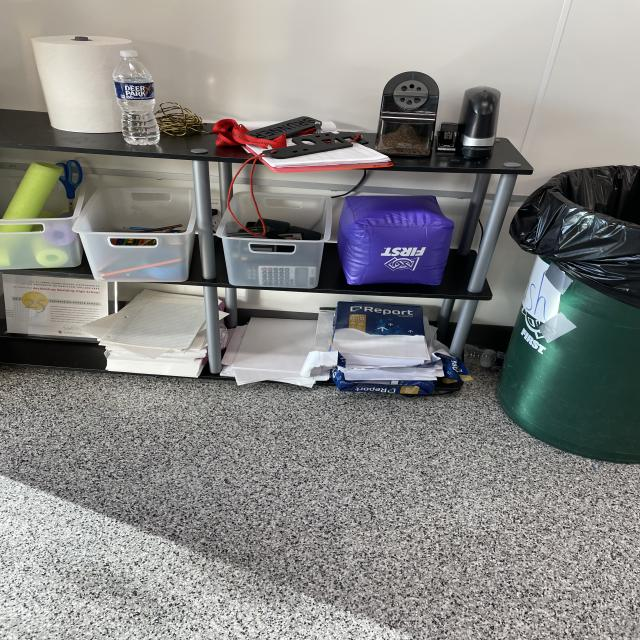frc_cube: (330, 188, 462, 293)
